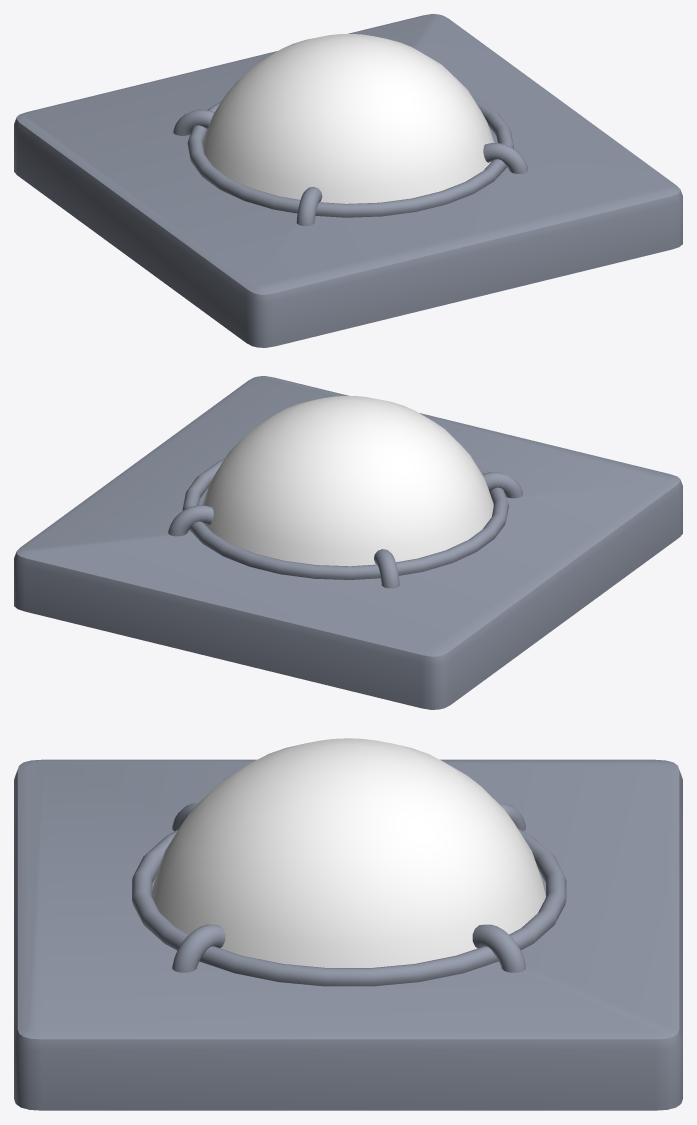
File: Button.fbx
3 renders of one model, top to bottom at view 1: azimuth 30°, elevation 25°; view 2: azimuth 150°, elevation 25°; view 3: azimuth 270°, elevation 25°, orthographic. The views are drawn at different scales.
Visible parts, largest first — view 1: Mos_003, Mos_Button_009; view 2: Mos_003, Mos_Button_009; view 3: Mos_003, Mos_Button_009.
Part boxes in pixels (bbox=[...]): Mos_003: bbox=[14, 14, 682, 347]; Mos_Button_009: bbox=[203, 34, 494, 203]; Mos_003: bbox=[14, 376, 682, 709]; Mos_Button_009: bbox=[202, 396, 493, 566]; Mos_003: bbox=[14, 759, 682, 1110]; Mos_Button_009: bbox=[152, 738, 545, 967].
Bounding box in the file's own units: 23.6 × 8.24 × 23.6.
